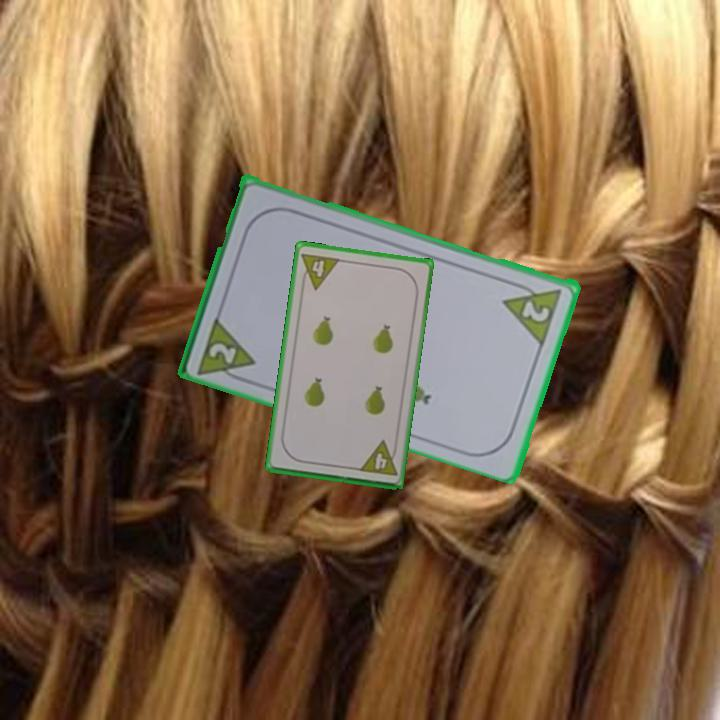2p: (194, 311, 259, 387), (499, 276, 566, 347)
4p: (297, 249, 343, 292), (355, 437, 400, 479)
